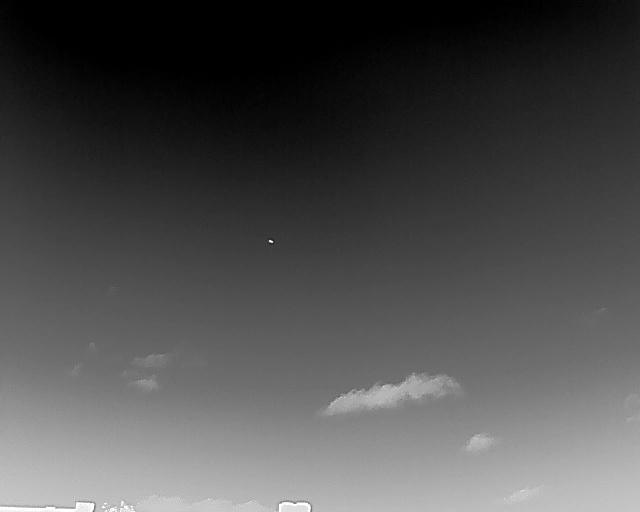fpv-drone: (268, 239, 274, 243)
